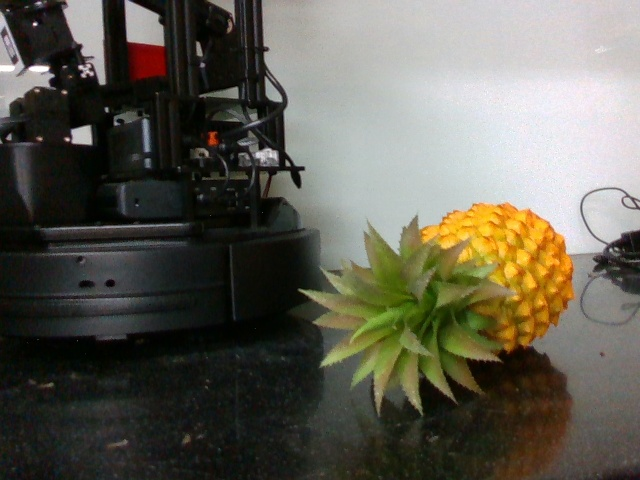pineapple: (320, 197, 576, 415)
